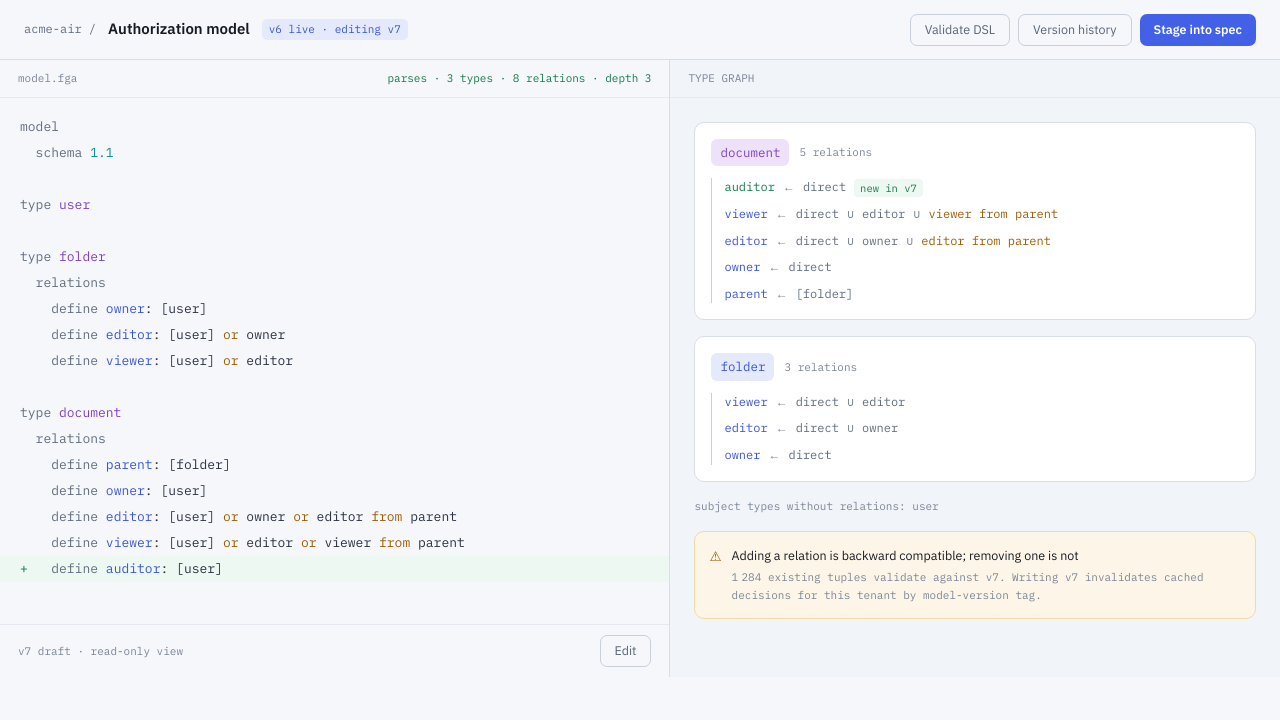
AuthorizationModelView › stages into the next generation and reports it inline
Check: the text "v6 live · editing v7" is shown, box 262,19 -> 408,40
Click the button "Stage into spec".
click(1198, 30)  # box 1140,14 -> 1256,46
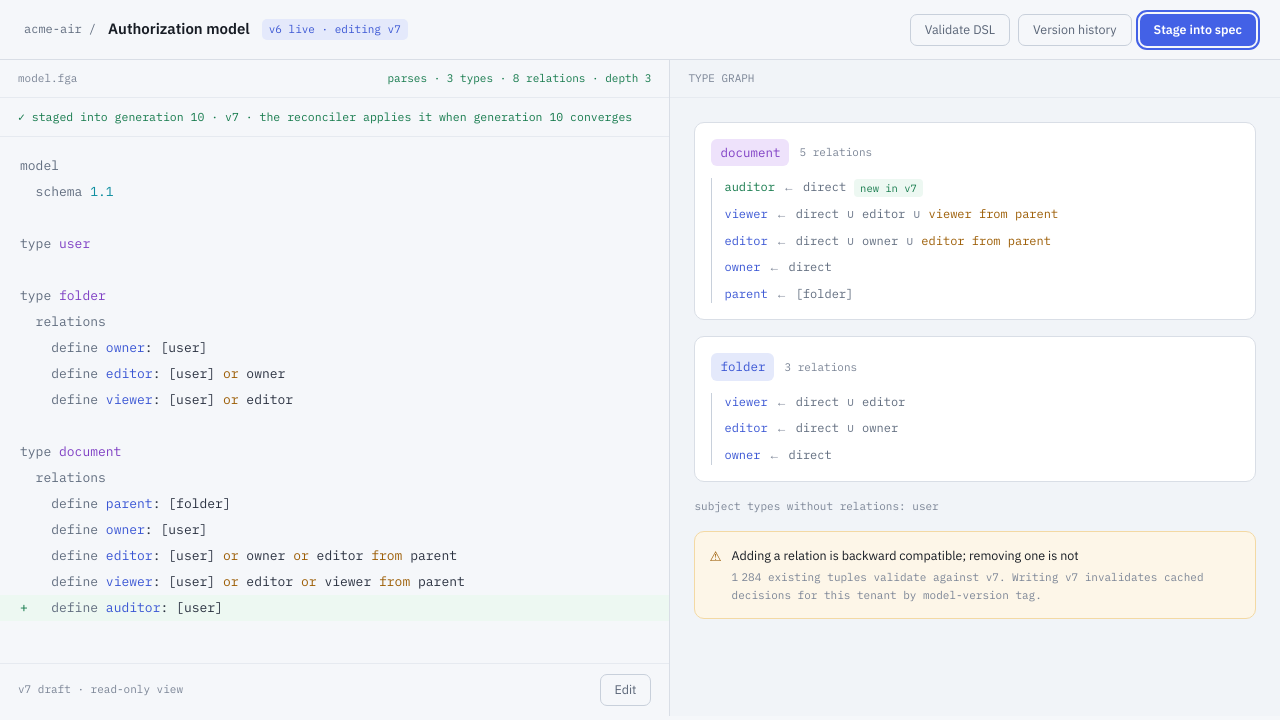
Check: the text "staged into generation 10" is shown, box 18,108 -> 652,126
